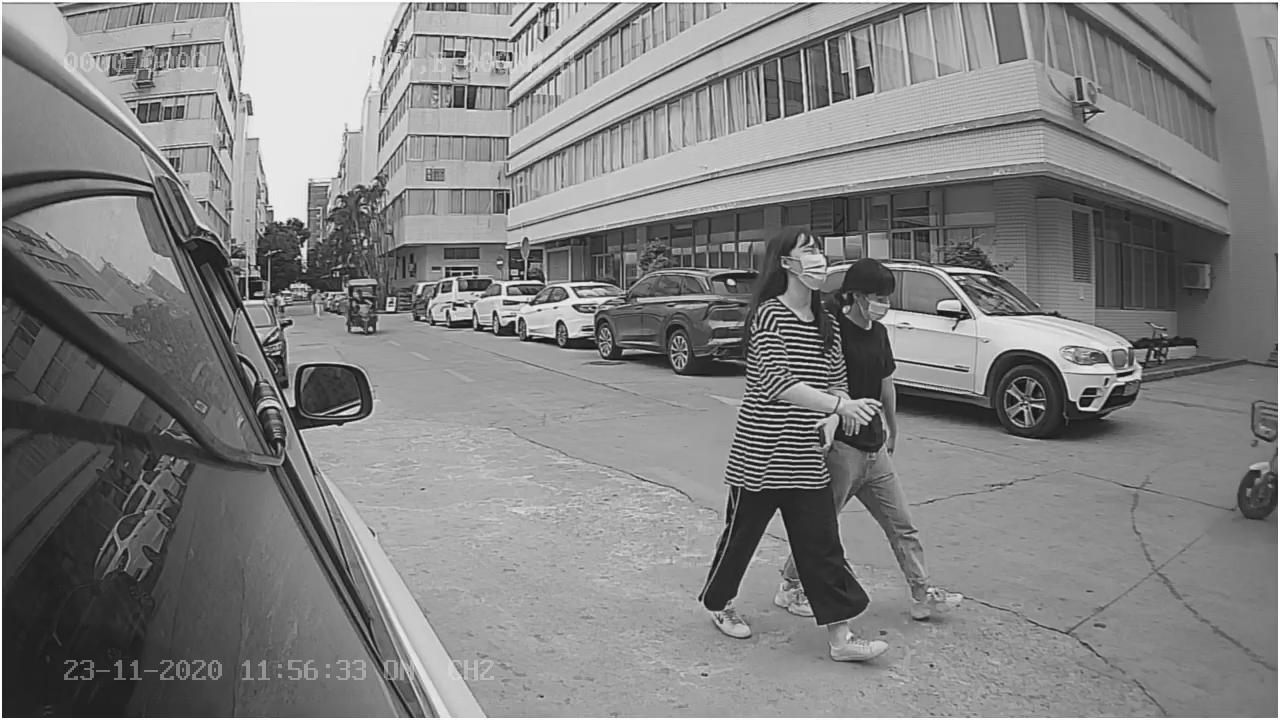person: (692, 228, 839, 657)
